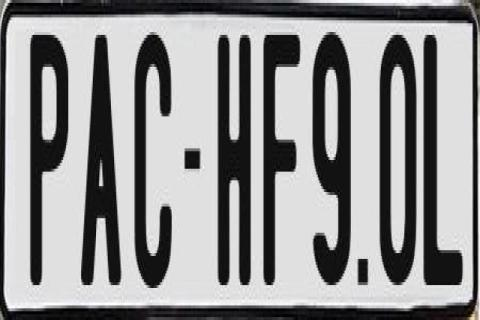0: (312, 24, 356, 294), (379, 27, 419, 280)
A: (79, 27, 126, 286)
C: (133, 26, 171, 282)
F: (263, 35, 305, 288)
H: (217, 35, 255, 288)
L: (424, 35, 467, 291)
P: (28, 32, 66, 288)
